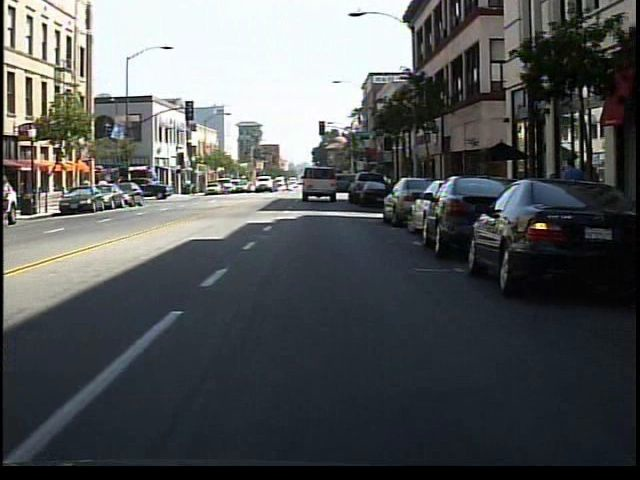person: (556, 151, 585, 235), (581, 157, 605, 231), (4, 170, 20, 232)
